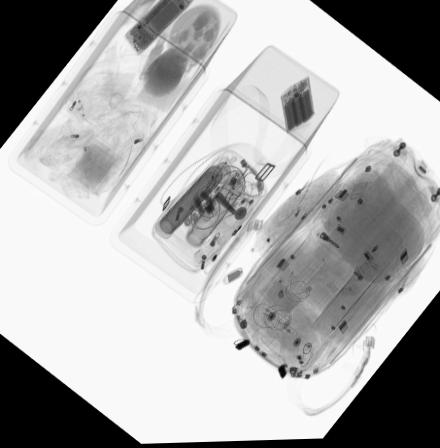Powerbank: (280, 77, 313, 135)
